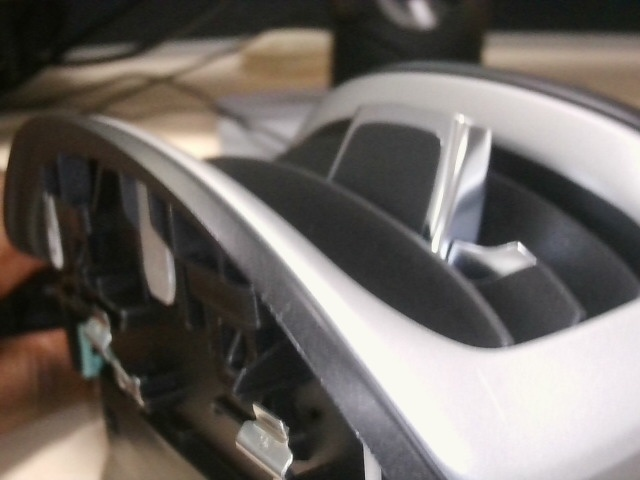NG: (470, 368, 512, 426), (259, 281, 298, 334)
